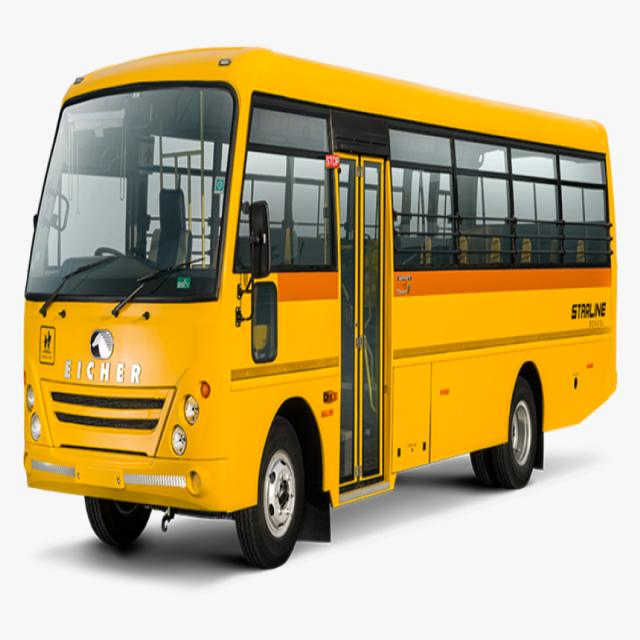bus: (24, 48, 616, 568)
